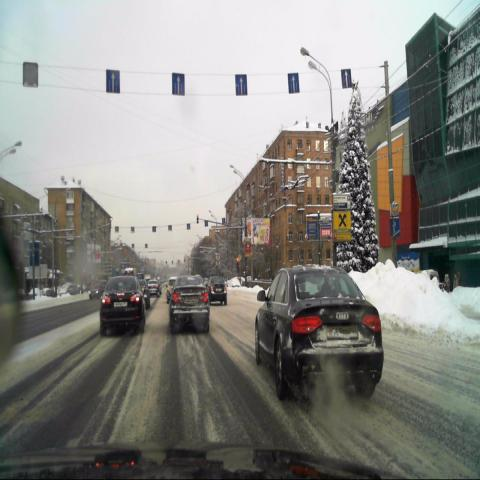5_15_2: (235, 73, 248, 95)
